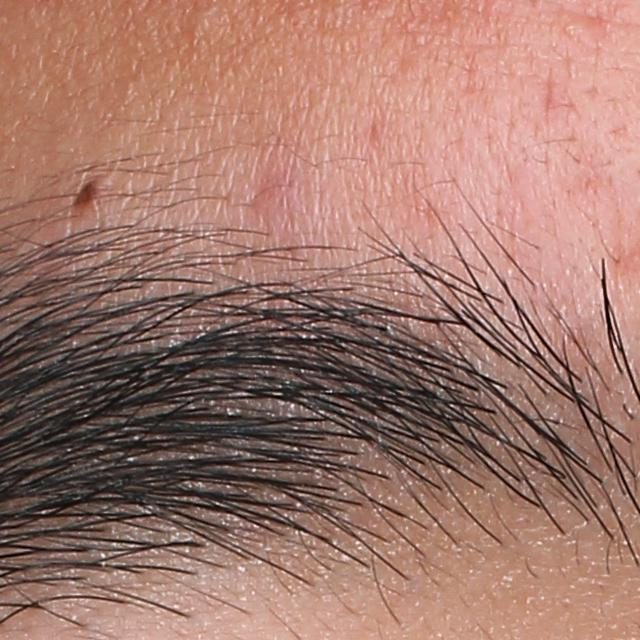nevus: (70, 177, 107, 214)
